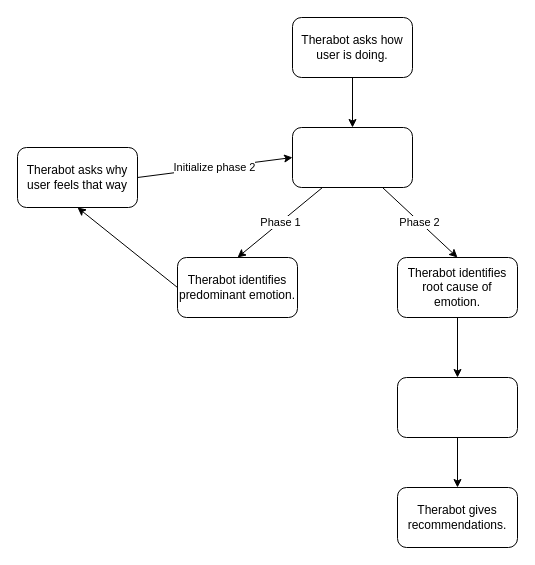
Image size: 535x565. Some labels were removed from this diagram. The shapes that lost their labels are listed below. From the top down, each one's box as (x1, y1, x2, y2) in pixels, then its label:
(292, 126, 412, 188): User sends response.
(396, 376, 518, 438): Therabot gives diagnoses.
